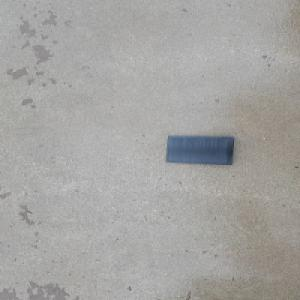PlasticPart: (164, 134, 237, 165)
